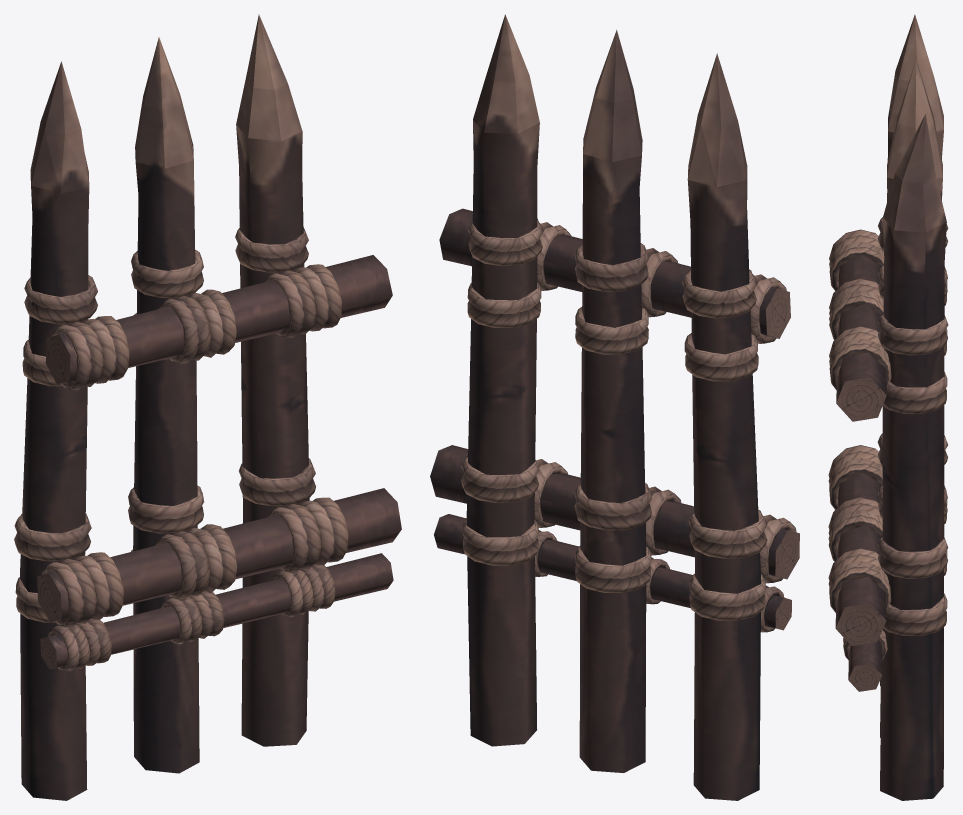
File: WoodFence_a.FBX
3 renders of one model, left to right at view 1: azimuth 30°, elevation 25°; view 2: azimuth 150°, elevation 25°; view 3: azimuth 270°, elevation 25°, orthographic. The views are drawn at different scales.
Parts seen in each view (by area): view 1: Cylinder020; view 2: Cylinder020; view 3: Cylinder020.
Part boxes in pixels (x1,y1,x2,y2): Cylinder020: (14, 14, 401, 800); Cylinder020: (430, 14, 799, 800); Cylinder020: (828, 14, 948, 800).
Size of the model in its own units: 2.43 by 4.91 by 0.7878.
1 material, 1 textured.
